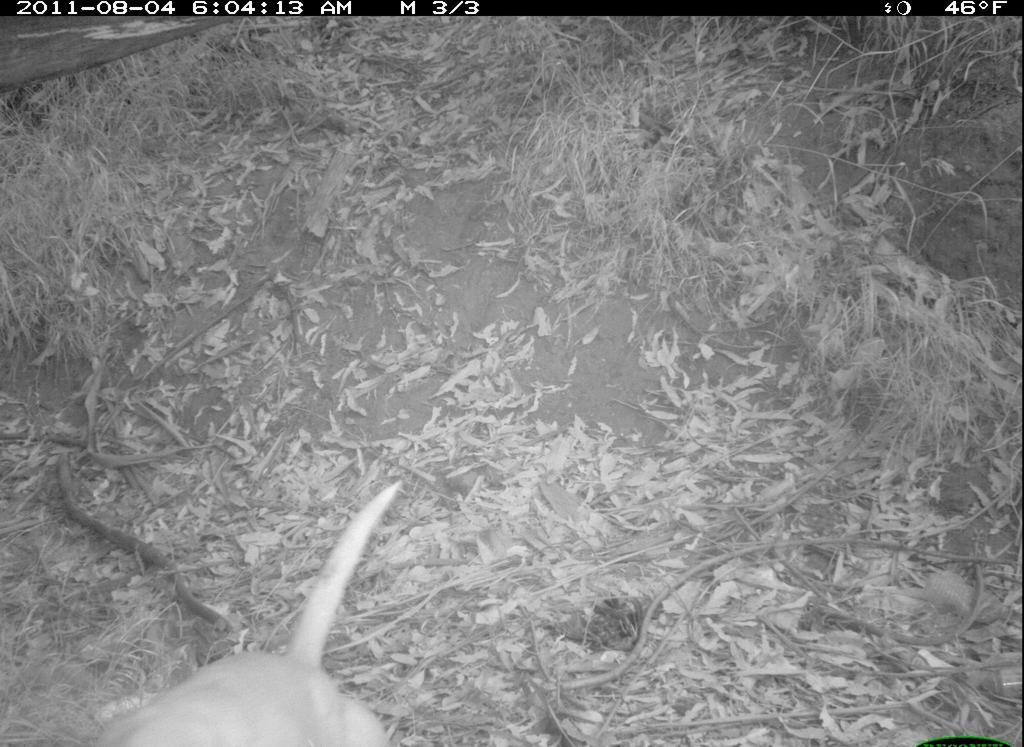dog: (66, 482, 424, 745)
